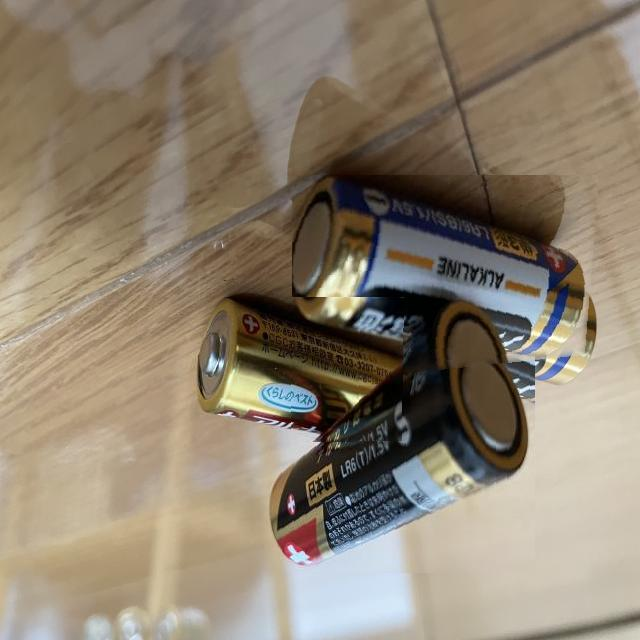battery: (266, 313, 536, 573), (292, 175, 602, 387), (191, 297, 404, 444)
